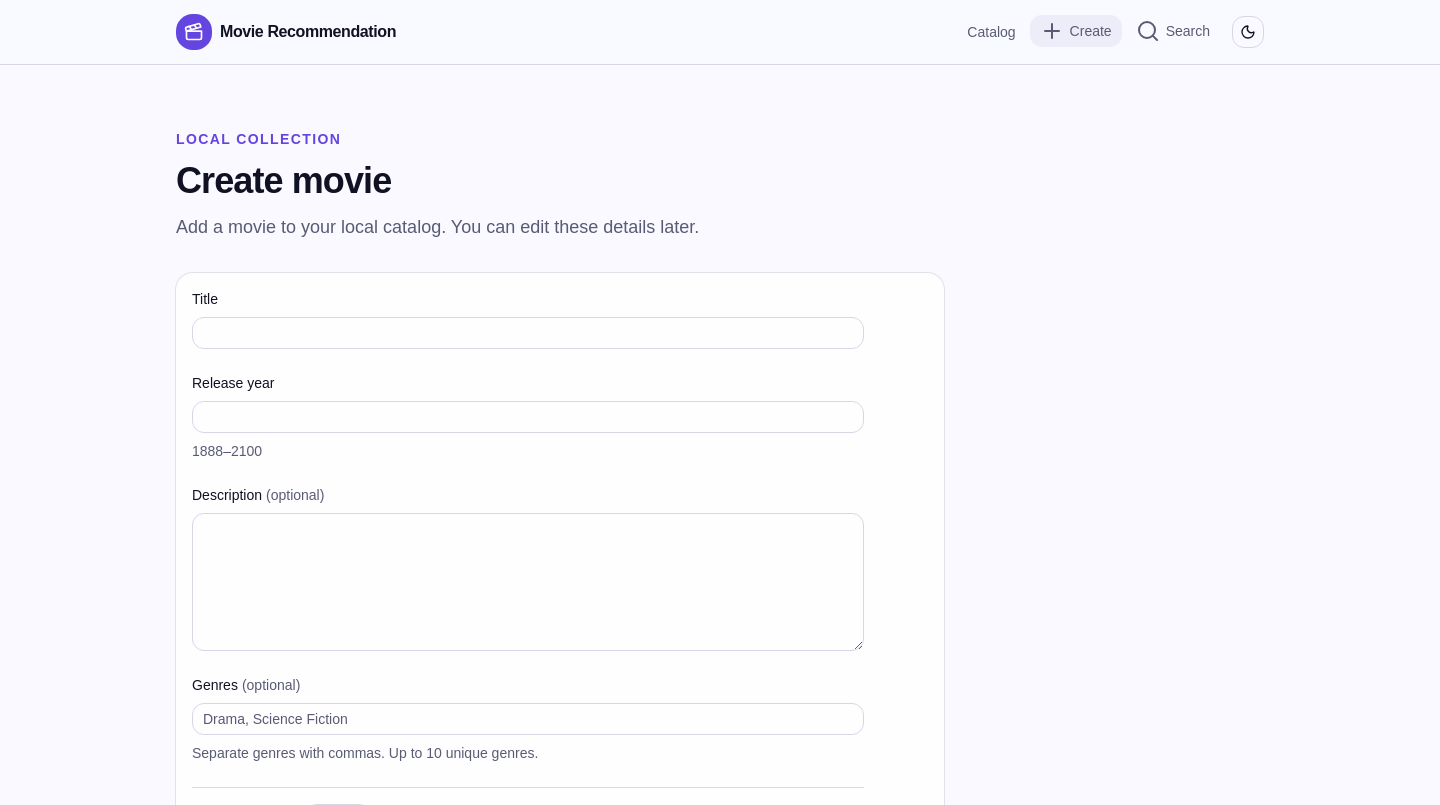
Test: create movie page › blocks a duplicate submit while the request is pending
This screenshot has width=1440, height=805.
Type "Alien" into the field labelled "Title".
click(528, 333); type("Alien")  # box [192,317,864,349]
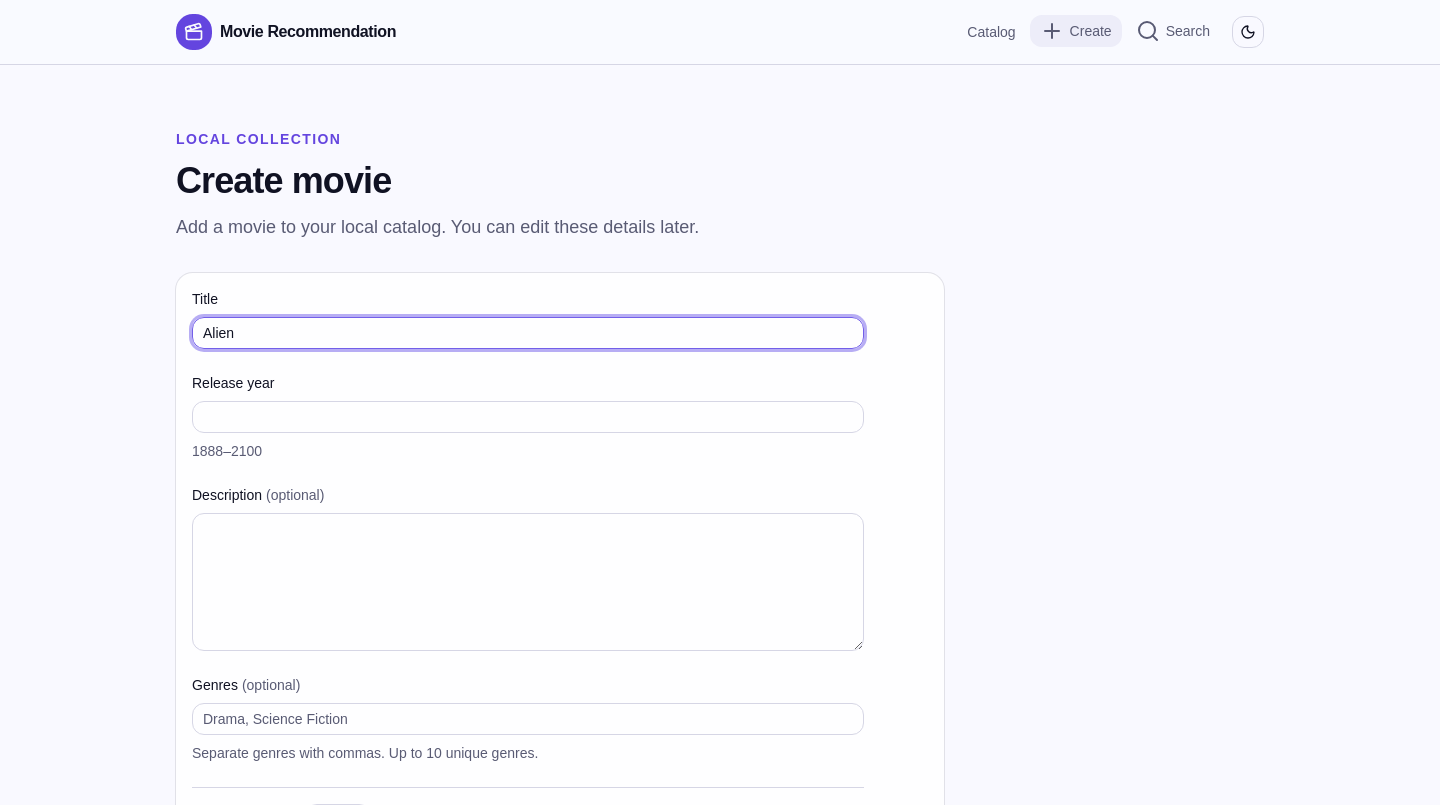
Type "1979" into the number field labelled "Release year".
click(528, 417); type("1979")  # box [192,401,864,433]
(page scrolled)
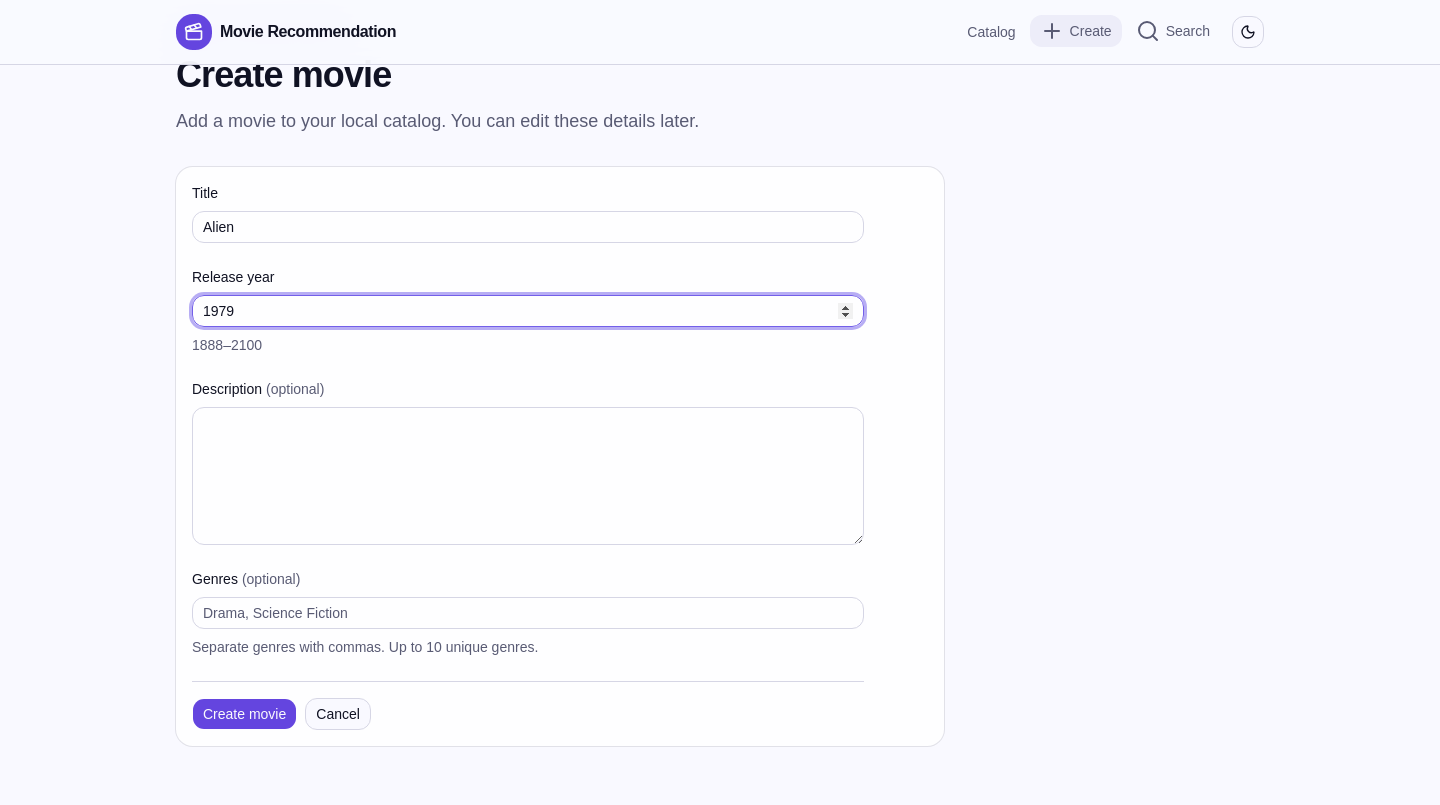
Double-click the button "Create movie".
double_click(245, 714)  # box [192,698,297,730]
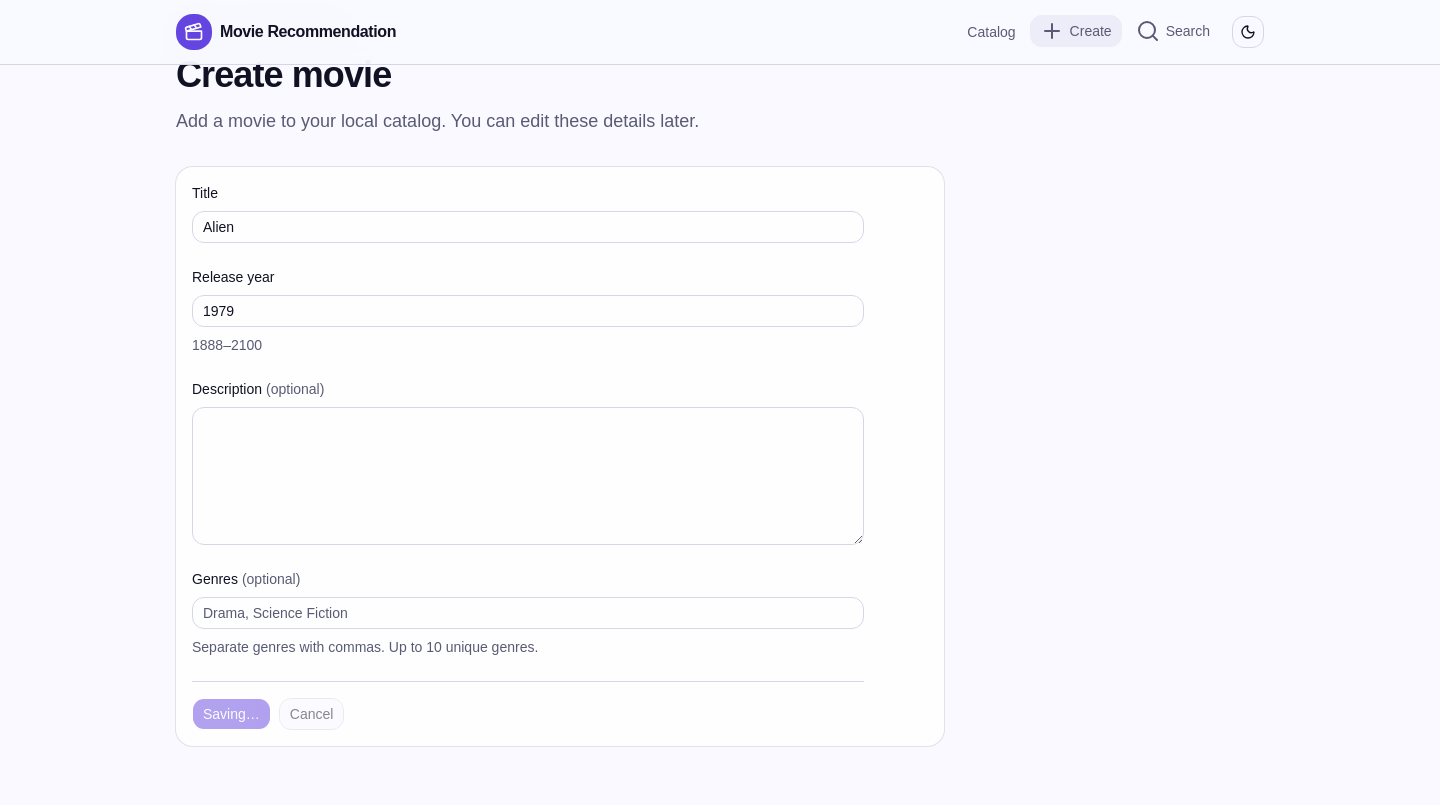
Now the button "Saving…" is disabled, box [192,698,271,730]
